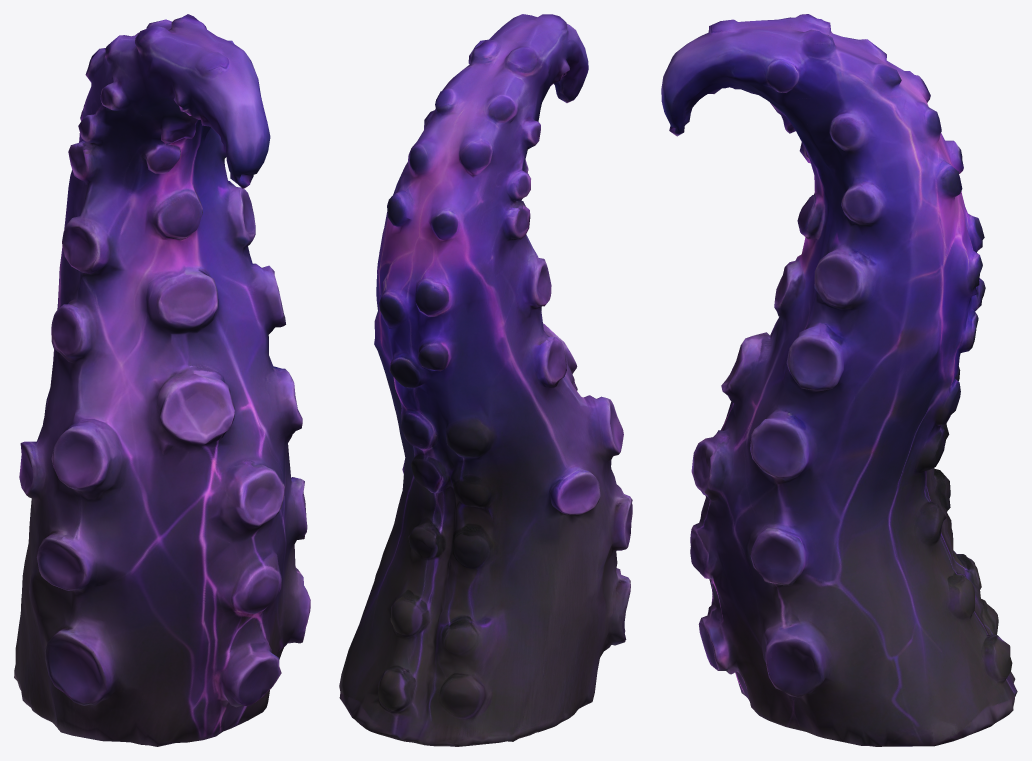
The model's file is Tentaculo.glb.
3 renders of one model, left to right at view 1: azimuth 30°, elevation 25°; view 2: azimuth 150°, elevation 25°; view 3: azimuth 270°, elevation 25°, orthographic. The views are drawn at different scales.
Bounding box in the file's own units: 0.7981 × 2 × 0.9669.
Materials: 1 (1 with a texture image).
